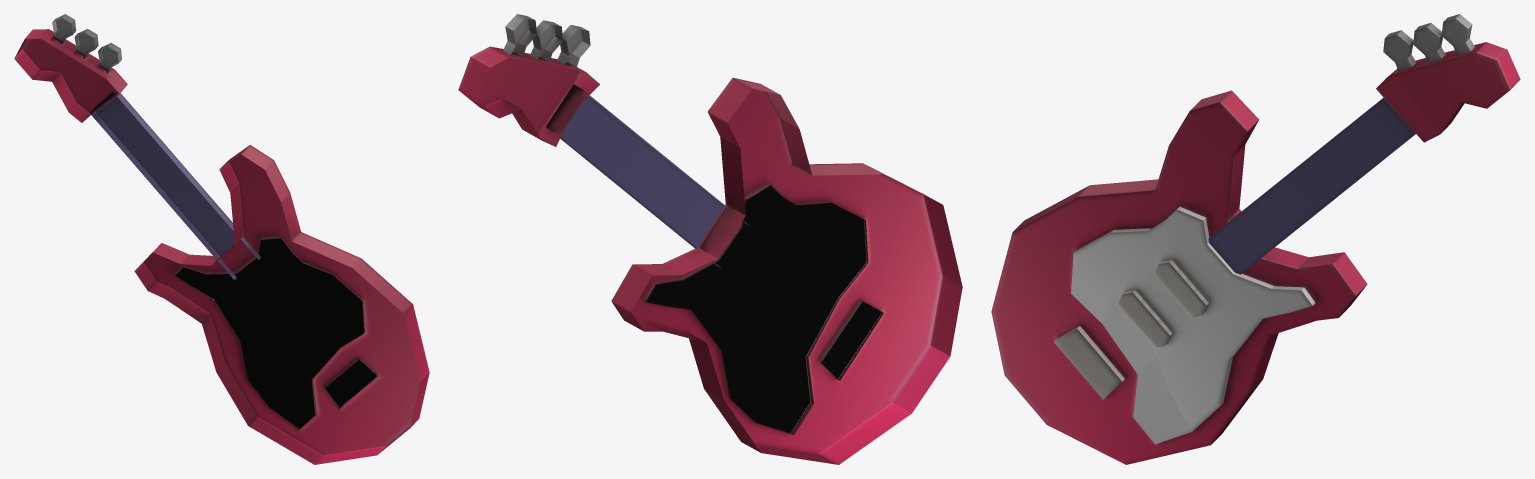
File: Emoji_guitar.glb
3 views of the same model, side by side, from view 1: azimuth 90°, elevation 25°; view 2: azimuth 150°, elevation 25°; view 3: azimuth 270°, elevation 25° (orthographic). The views are drawn at different scales.
Visible parts, largest first — view 1: Emoji; view 2: Emoji; view 3: Emoji.
Part boxes in pixels (x1,y1,x2,y2): Emoji: [14, 14, 429, 464]; Emoji: [458, 14, 962, 464]; Emoji: [991, 14, 1520, 464].
Size of the model in its own units: 0.2917 by 0.6395 by 0.6081.
1 material, 1 textured.
